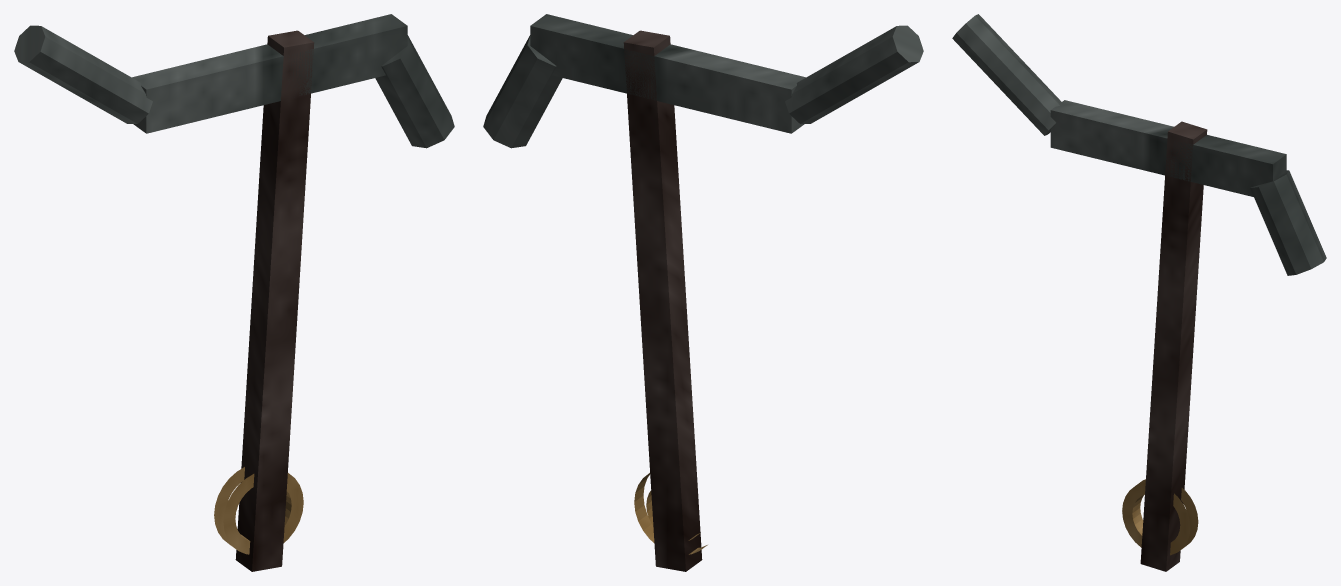
Rendered from 0898_climbing_axe_23.glb.
The picture shows the model from 3 angles, left to right: view 1: azimuth 30°, elevation 25°; view 2: azimuth 150°, elevation 25°; view 3: azimuth 330°, elevation 25°; orthographic projection. The views are drawn at different scales.
Visible parts, largest first — view 1: iron, wood_dark, brass; view 2: iron, wood_dark, brass; view 3: iron, wood_dark, brass.
Part boxes in pixels (<box>): iron: <box>14,14,454,148</box>; wood_dark: <box>235,30,314,571</box>; brass: <box>214,467,303,554</box>; iron: <box>483,14,923,148</box>; wood_dark: <box>623,30,702,571</box>; brass: <box>634,473,707,554</box>; iron: <box>952,14,1326,275</box>; wood_dark: <box>1140,121,1207,571</box>; brass: <box>1122,479,1198,555</box>.
Size of the model in its own units: 1.08 by 1.41 by 0.11.
Materials: 3 (3 with a texture image).
